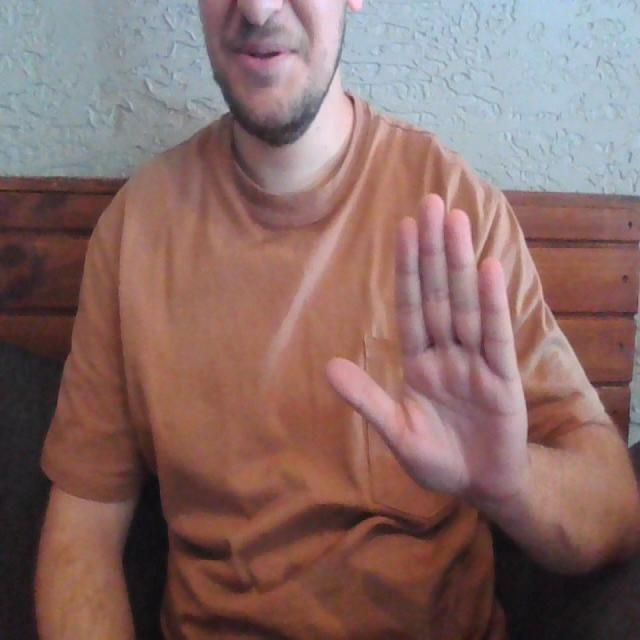Dur: (304, 177, 552, 514)
